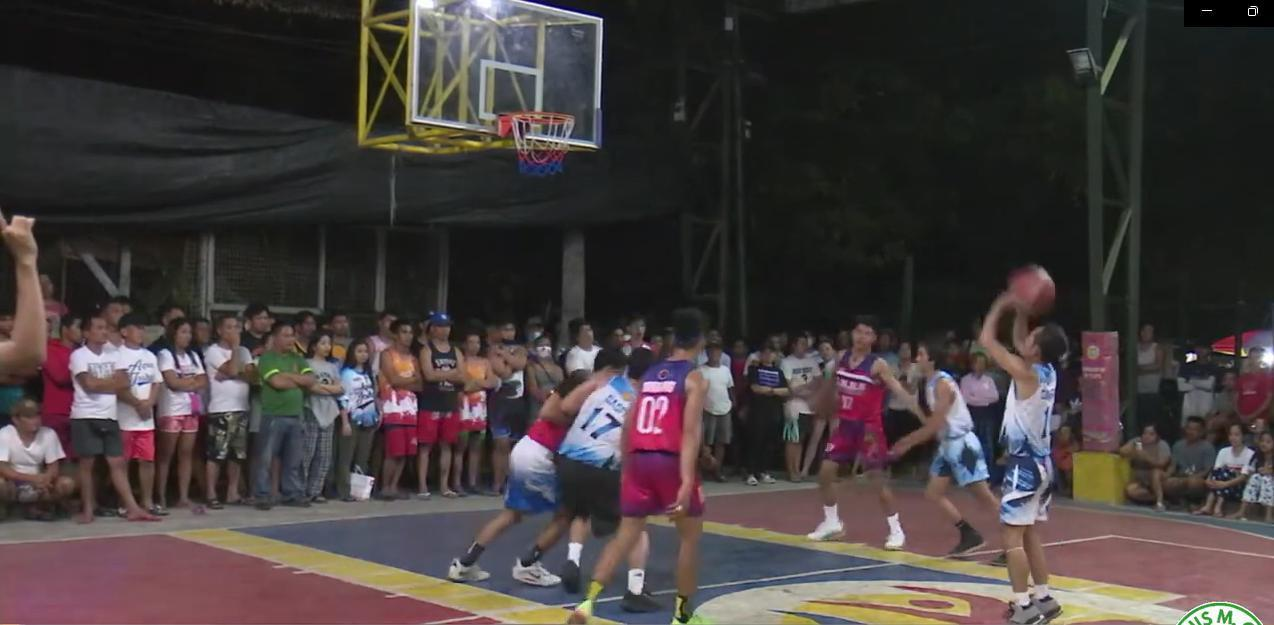ball: (1004, 261, 1058, 318)
human: (550, 308, 715, 625), (442, 332, 614, 582), (768, 310, 931, 563), (973, 288, 1083, 625), (880, 340, 1030, 570), (563, 340, 660, 613)
rim: (508, 108, 576, 181)
